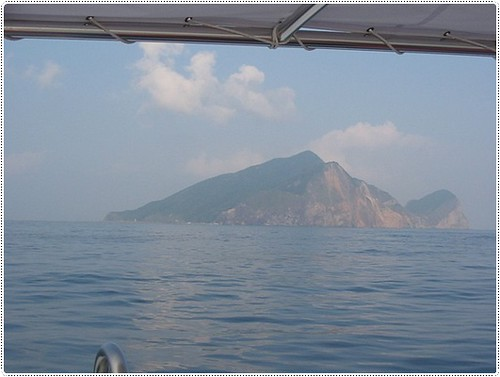turtleIsland: (108, 150, 469, 232)
